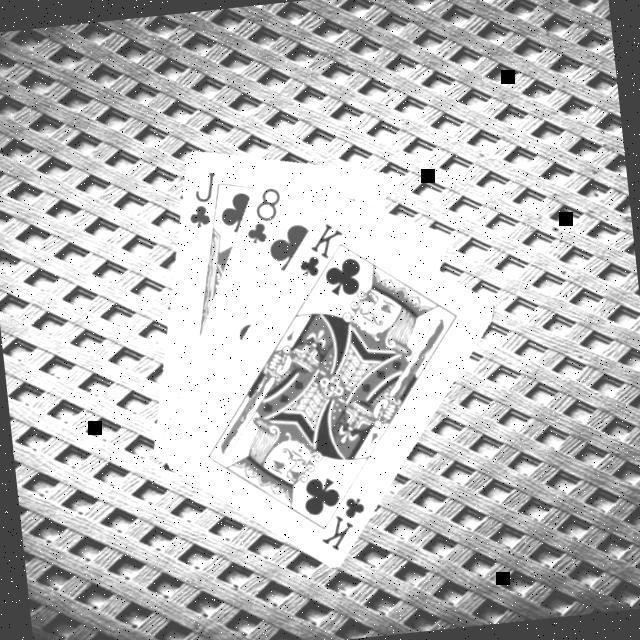8C: (236, 184, 286, 249)
JC: (179, 169, 221, 233)
KC: (290, 219, 351, 294), (311, 480, 370, 557)
